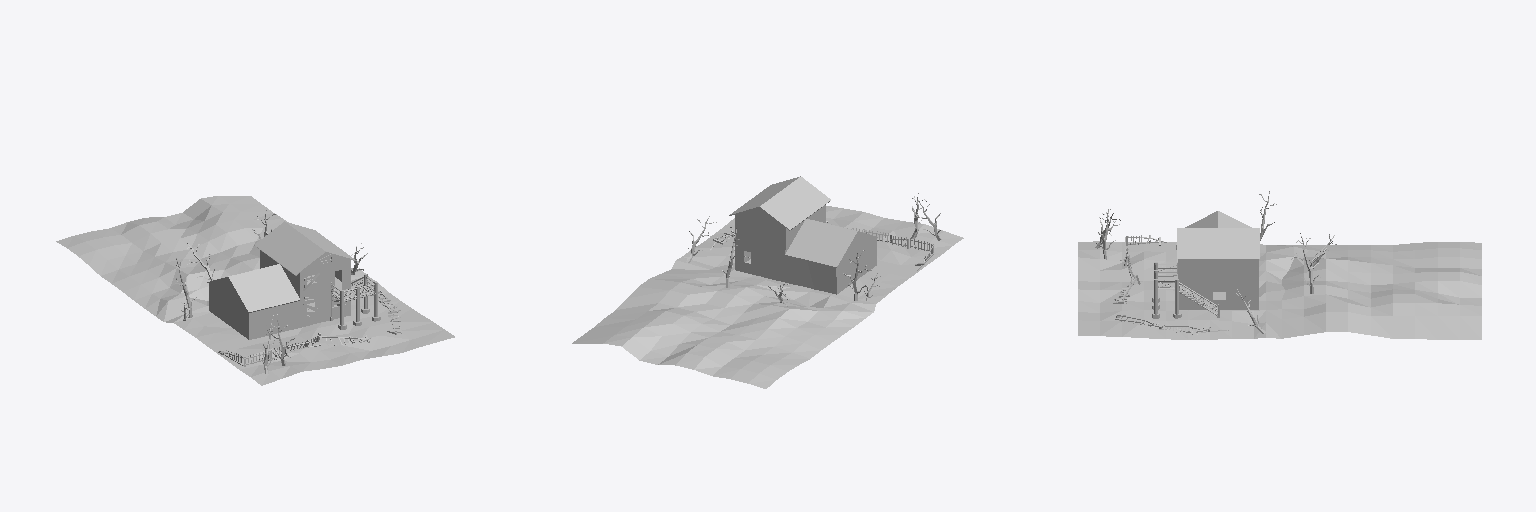
Rendered from Abandoned_House.obj.
3 views of the same model, side by side, from view 1: azimuth 30°, elevation 25°; view 2: azimuth 150°, elevation 25°; view 3: azimuth 270°, elevation 25° (orthographic).
Visible parts, largest first — view 1: Ground, house, Stairs2, Fences; view 2: Ground, house, Fences; view 3: Ground, house, Stairs2, Fences.
Boxes of the visible parts, box(x1,y1,x2,y2) form: Ground: box(56, 196, 454, 385); house: box(207, 221, 356, 339); Stairs2: box(330, 274, 380, 329); Fences: box(218, 290, 401, 366); Ground: box(572, 206, 963, 388); house: box(729, 176, 877, 294); Fences: box(710, 221, 934, 270); Ground: box(1078, 241, 1481, 339); house: box(1177, 211, 1259, 309); Stairs2: box(1152, 262, 1219, 318); Fences: box(1113, 235, 1228, 334).
Size of the model in its own units: 123 by 44.39 by 217.